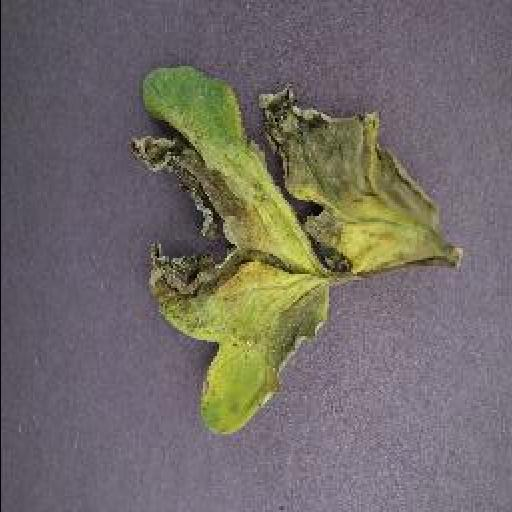disease_tomato: (122, 63, 456, 433)
